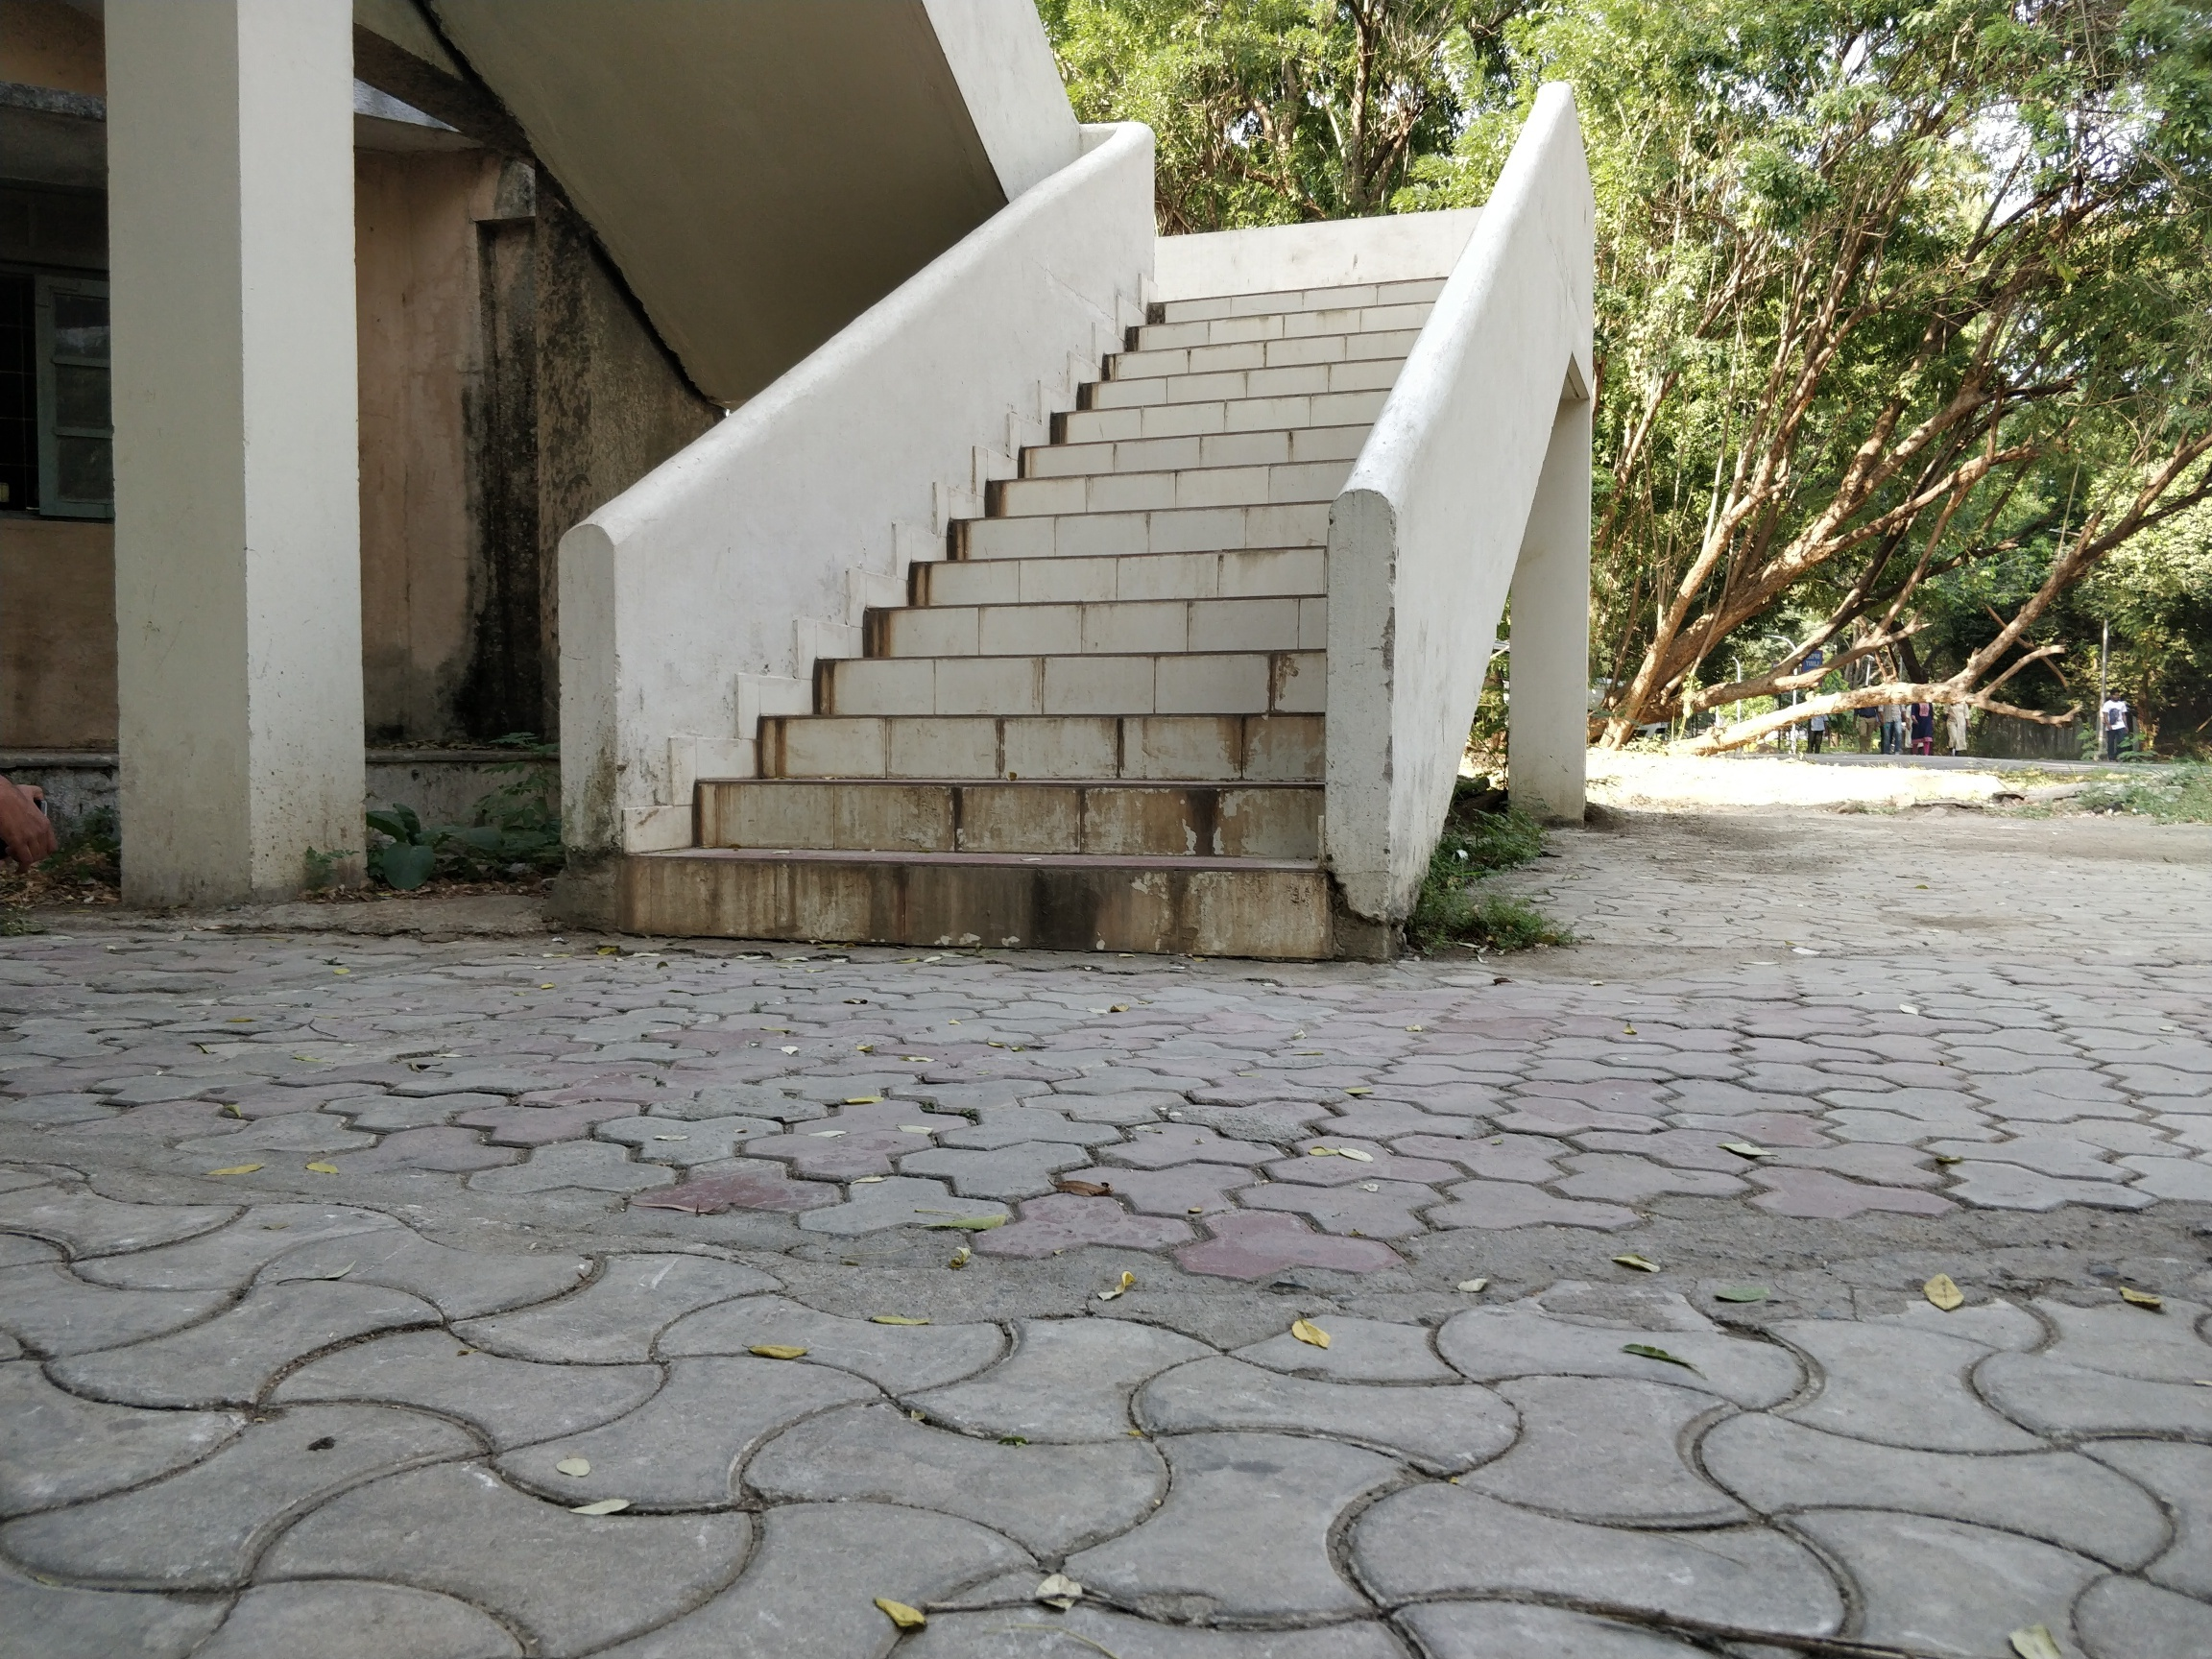stairs_up: (570, 268, 1458, 964)
